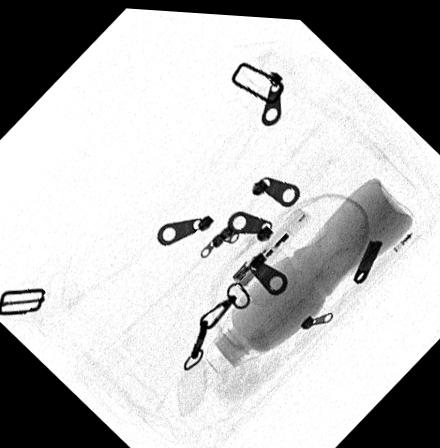Lighter: (231, 202, 312, 283)
